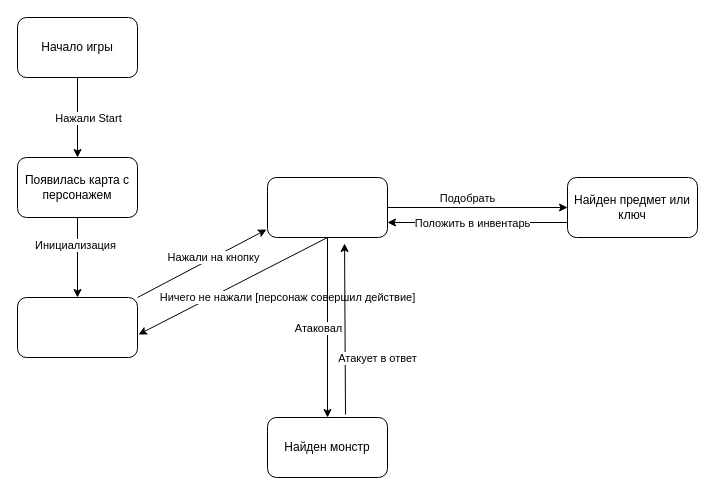
This 715x495 diagram has some shape labels left out. The centre of each missing label's shape, as x and y in pixels:
"Ожидание" belongs at pixel 77 327.
"Персонаж на новой позиции" belongs at pixel 327 207.
